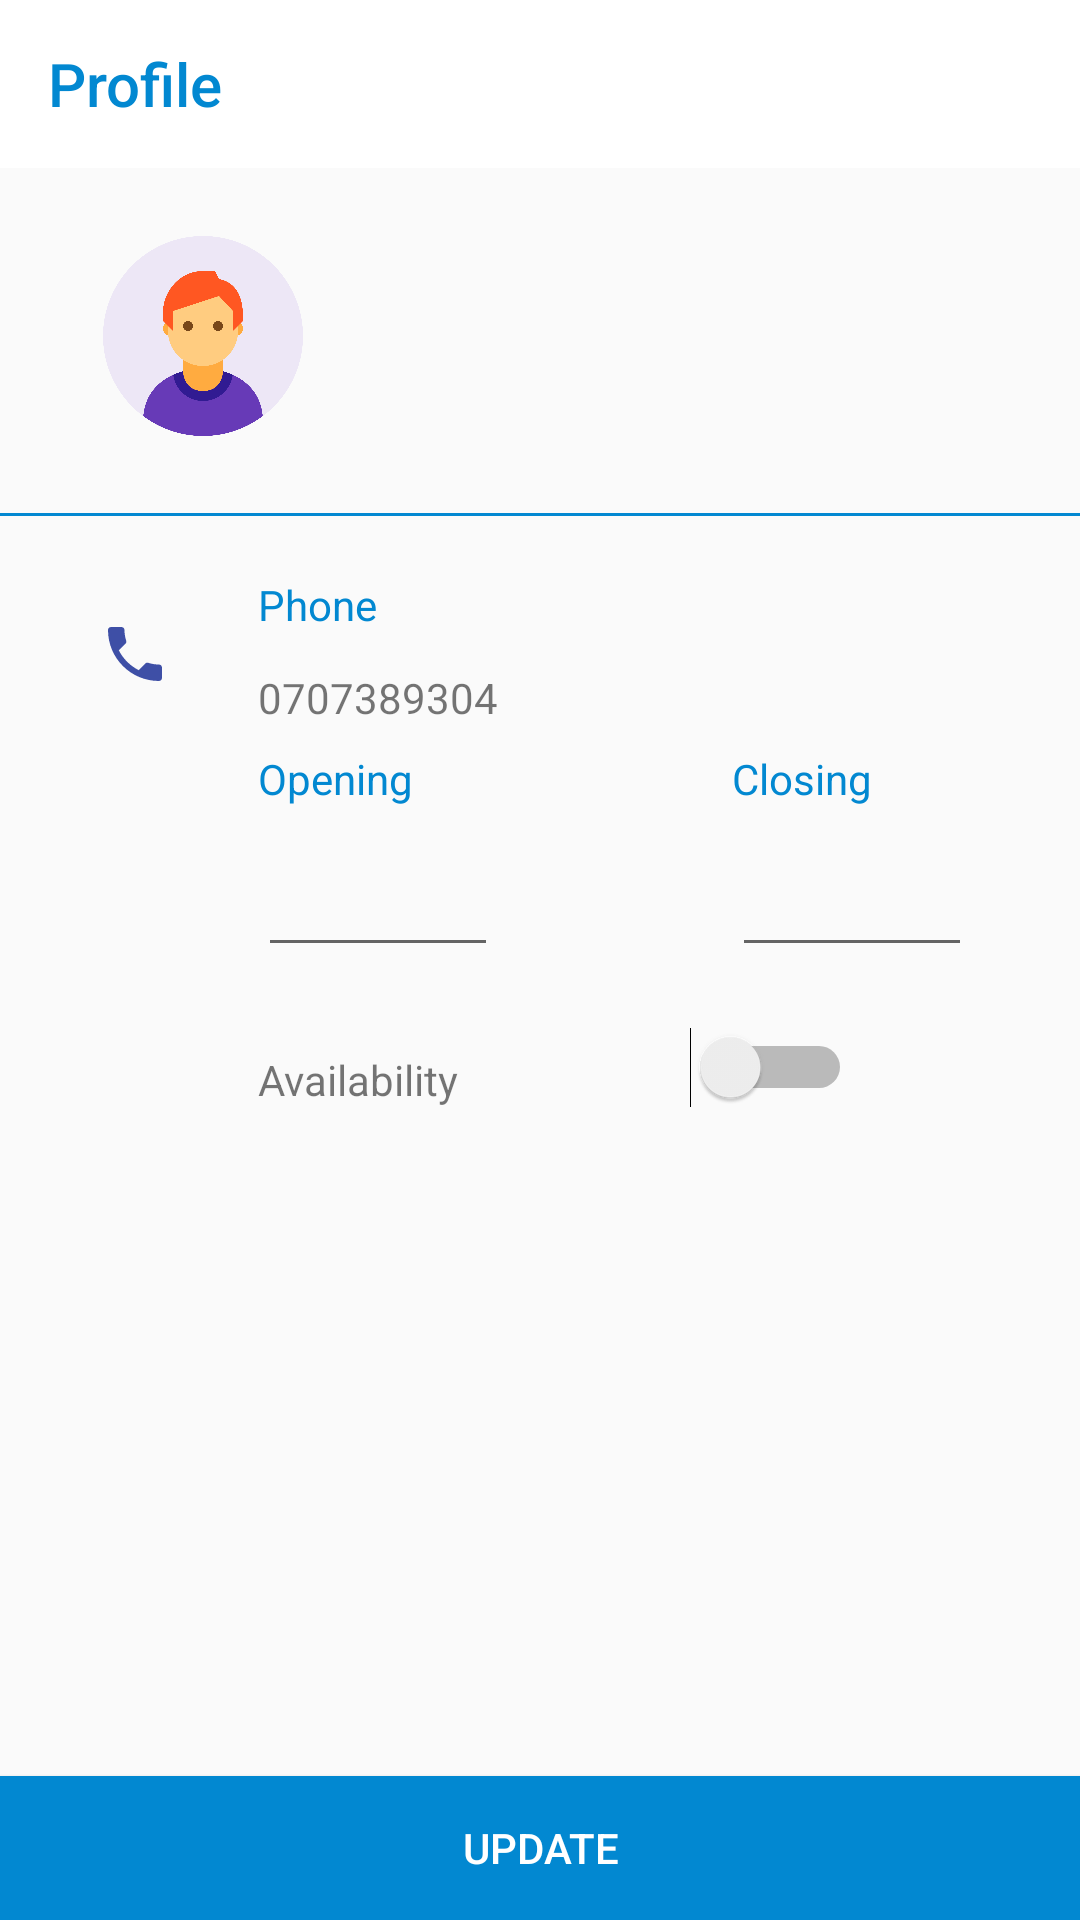

Icon bounding boxes for this 1080*1920 phone screenshot, format (x1, y1, x2, y2):
circleuser: (143, 271, 263, 436)
